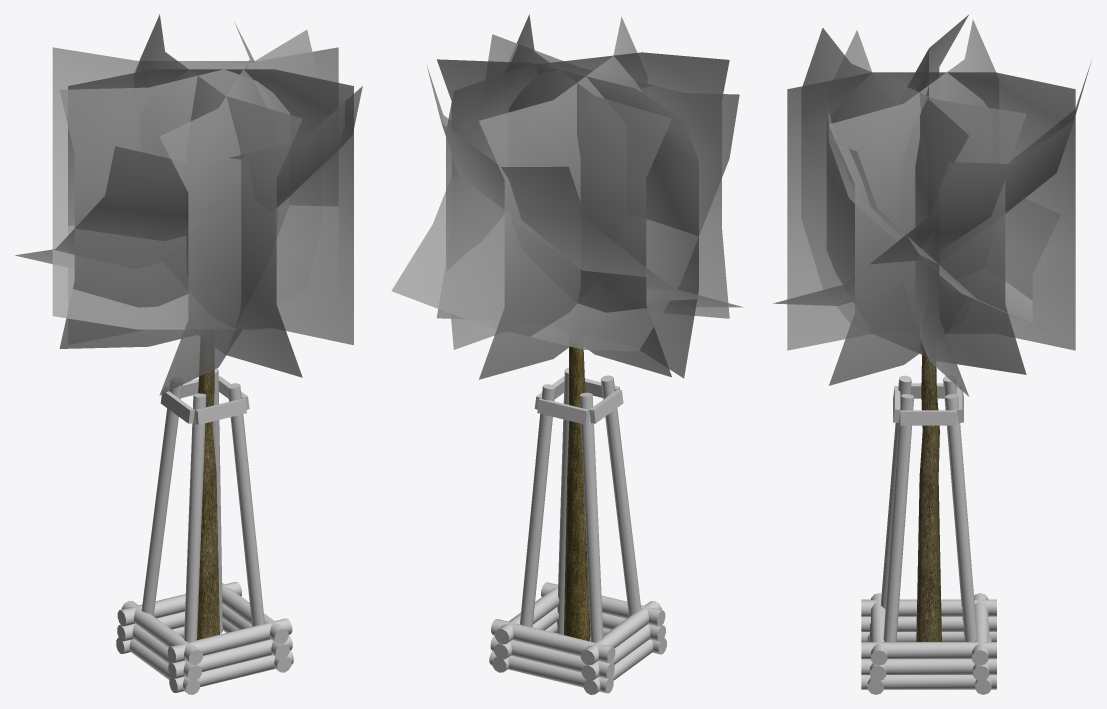
File: tree.fbx
3 views of the same model, side by side, from view 1: azimuth 30°, elevation 25°; view 2: azimuth 150°, elevation 25°; view 3: azimuth 270°, elevation 25° (orthographic).
Parts seen in each view (by area): view 1: Mesh; view 2: Mesh; view 3: Mesh.
Part boxes in pixels (left/top/right/bottom): Mesh: left=15, top=14, right=362, bottom=694; Mesh: left=391, top=14, right=743, bottom=694; Mesh: left=773, top=15, right=1091, bottom=694.
Bounding box in the file's own units: 244 × 452 × 222.
Materials: 3 (1 with a texture image).
